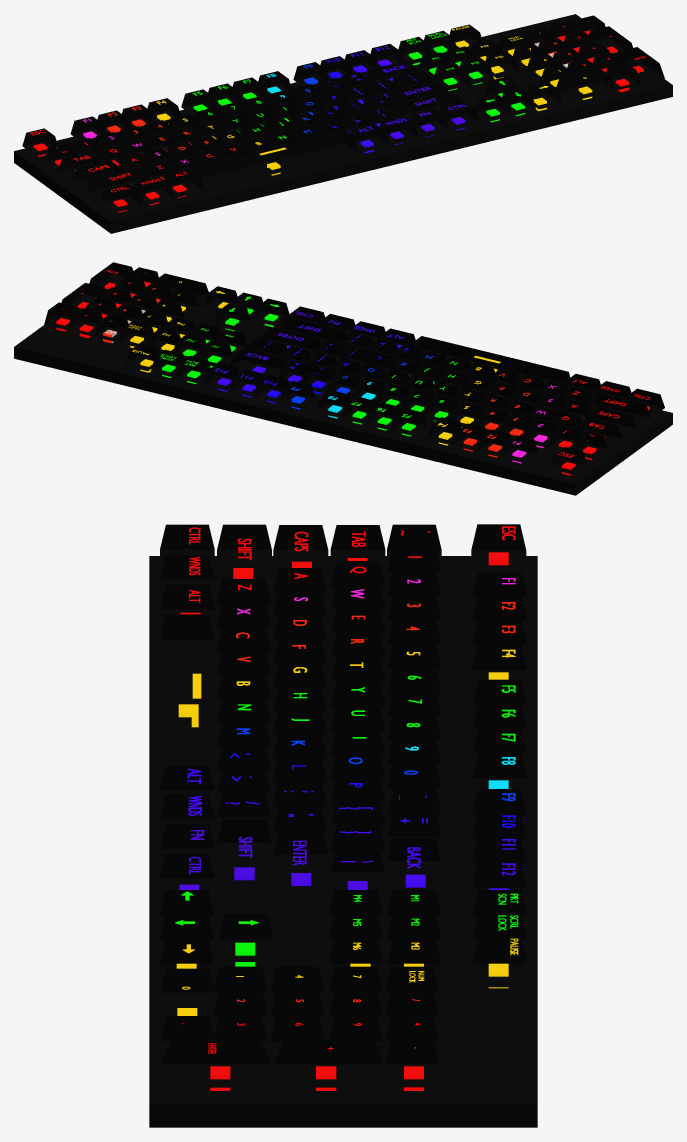
File: keyboard.glb
The picture shows the model from 3 angles, top to bottom: view 1: azimuth 30°, elevation 25°; view 2: azimuth 150°, elevation 25°; view 3: azimuth 270°, elevation 25°; orthographic projection. The views are drawn at different scales.
Parts seen in each view (by area): view 1: Plane, Plane.047, Plane.088, Plane.039, Plane.038, Plane.089, Plane.041, Plane.027, Plane.043, Plane.040, Plane.026, Plane.045 (+90 smaller); view 2: Plane, Plane.047, Plane.038, Plane.083, Plane.039, Plane.088, Plane.027, Plane.026, Plane.010, Plane.069, Plane.073, Plane.065 (+75 smaller); view 3: Plane, Plane.047, Plane.090, Plane.089, Plane.039, Plane.027, Plane.038, Plane.083, Plane.088, Plane.103, Plane.074, Plane.087 (+93 smaller).
Boxes of the visible parts, x1,y1,x2,y2 form: Plane: (14,14,672,233); Plane.047: (195,131,357,190); Plane.088: (556,69,615,102); Plane.039: (389,91,462,119); Plane.038: (85,167,150,202); Plane.089: (617,47,664,84); Plane.041: (100,184,142,213); Plane.027: (387,81,448,104); Plane.043: (349,124,389,152); Plane.040: (133,176,173,205); Plane.026: (71,160,122,192); Plane.045: (409,109,449,138); Plane: (14,301,672,495); Plane.047: (410,336,570,384); Plane.038: (585,393,650,427); Plane.083: (230,348,285,378); Plane.039: (273,317,347,343); Plane.088: (151,273,208,306); Plane.027: (260,327,320,356); Plane.026: (585,406,636,438); Plane.010: (576,418,622,448); Plane.069: (391,408,427,435); Plane.073: (279,381,315,408); Plane.065: (501,435,538,462); Plane: (149,556,537,1127); Plane.047: (160,614,213,786); Plane.090: (273,1039,384,1087); Plane.089: (160,1039,271,1087); Plane.039: (217,819,271,907); Plane.027: (273,830,328,907); Plane.038: (217,524,271,603); Plane.083: (386,838,441,907); Plane.088: (160,968,214,1039); Plane.103: (384,1039,439,1087); Plane.074: (472,939,526,987); Plane.087: (218,914,273,961).
Size of the model in its own units: 9.19 by 0.4927 by 2.75.
